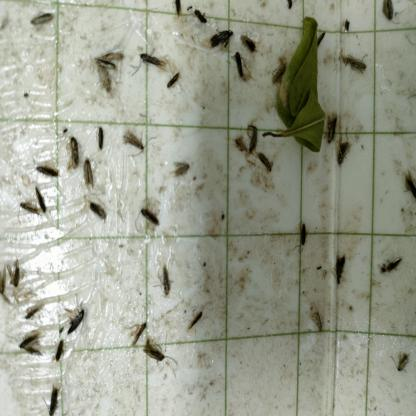prays_oleae: (342, 44, 371, 82), (392, 160, 416, 205), (332, 247, 352, 299), (126, 315, 150, 358), (170, 152, 195, 187), (87, 197, 114, 228), (139, 49, 167, 78), (123, 126, 148, 158), (42, 382, 67, 414), (309, 297, 328, 339), (19, 330, 45, 360), (210, 25, 235, 56), (381, 248, 404, 281), (34, 158, 63, 184), (268, 52, 285, 96), (158, 265, 179, 299), (335, 135, 353, 174), (6, 260, 29, 290), (60, 305, 88, 329), (144, 336, 168, 364), (296, 217, 313, 256), (238, 22, 256, 57), (32, 186, 52, 217), (140, 201, 161, 230), (377, 1, 398, 29), (256, 149, 276, 178), (63, 136, 82, 166), (392, 348, 412, 376), (82, 156, 98, 190), (324, 110, 340, 144), (52, 335, 70, 365), (234, 52, 250, 85), (94, 54, 116, 76), (192, 4, 209, 32), (95, 127, 110, 153), (168, 72, 185, 92), (187, 312, 207, 328), (25, 305, 44, 317)
